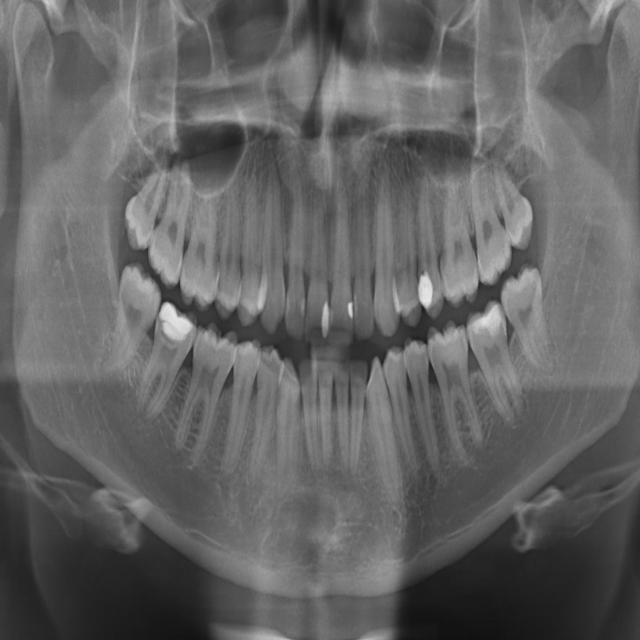CompositeResinRestoration: (159, 298, 193, 341), (476, 300, 502, 340), (416, 268, 432, 310), (320, 300, 332, 335), (347, 292, 358, 320), (299, 297, 305, 321)
DentalCaries: (216, 270, 228, 300), (154, 322, 166, 348), (307, 296, 313, 326)
